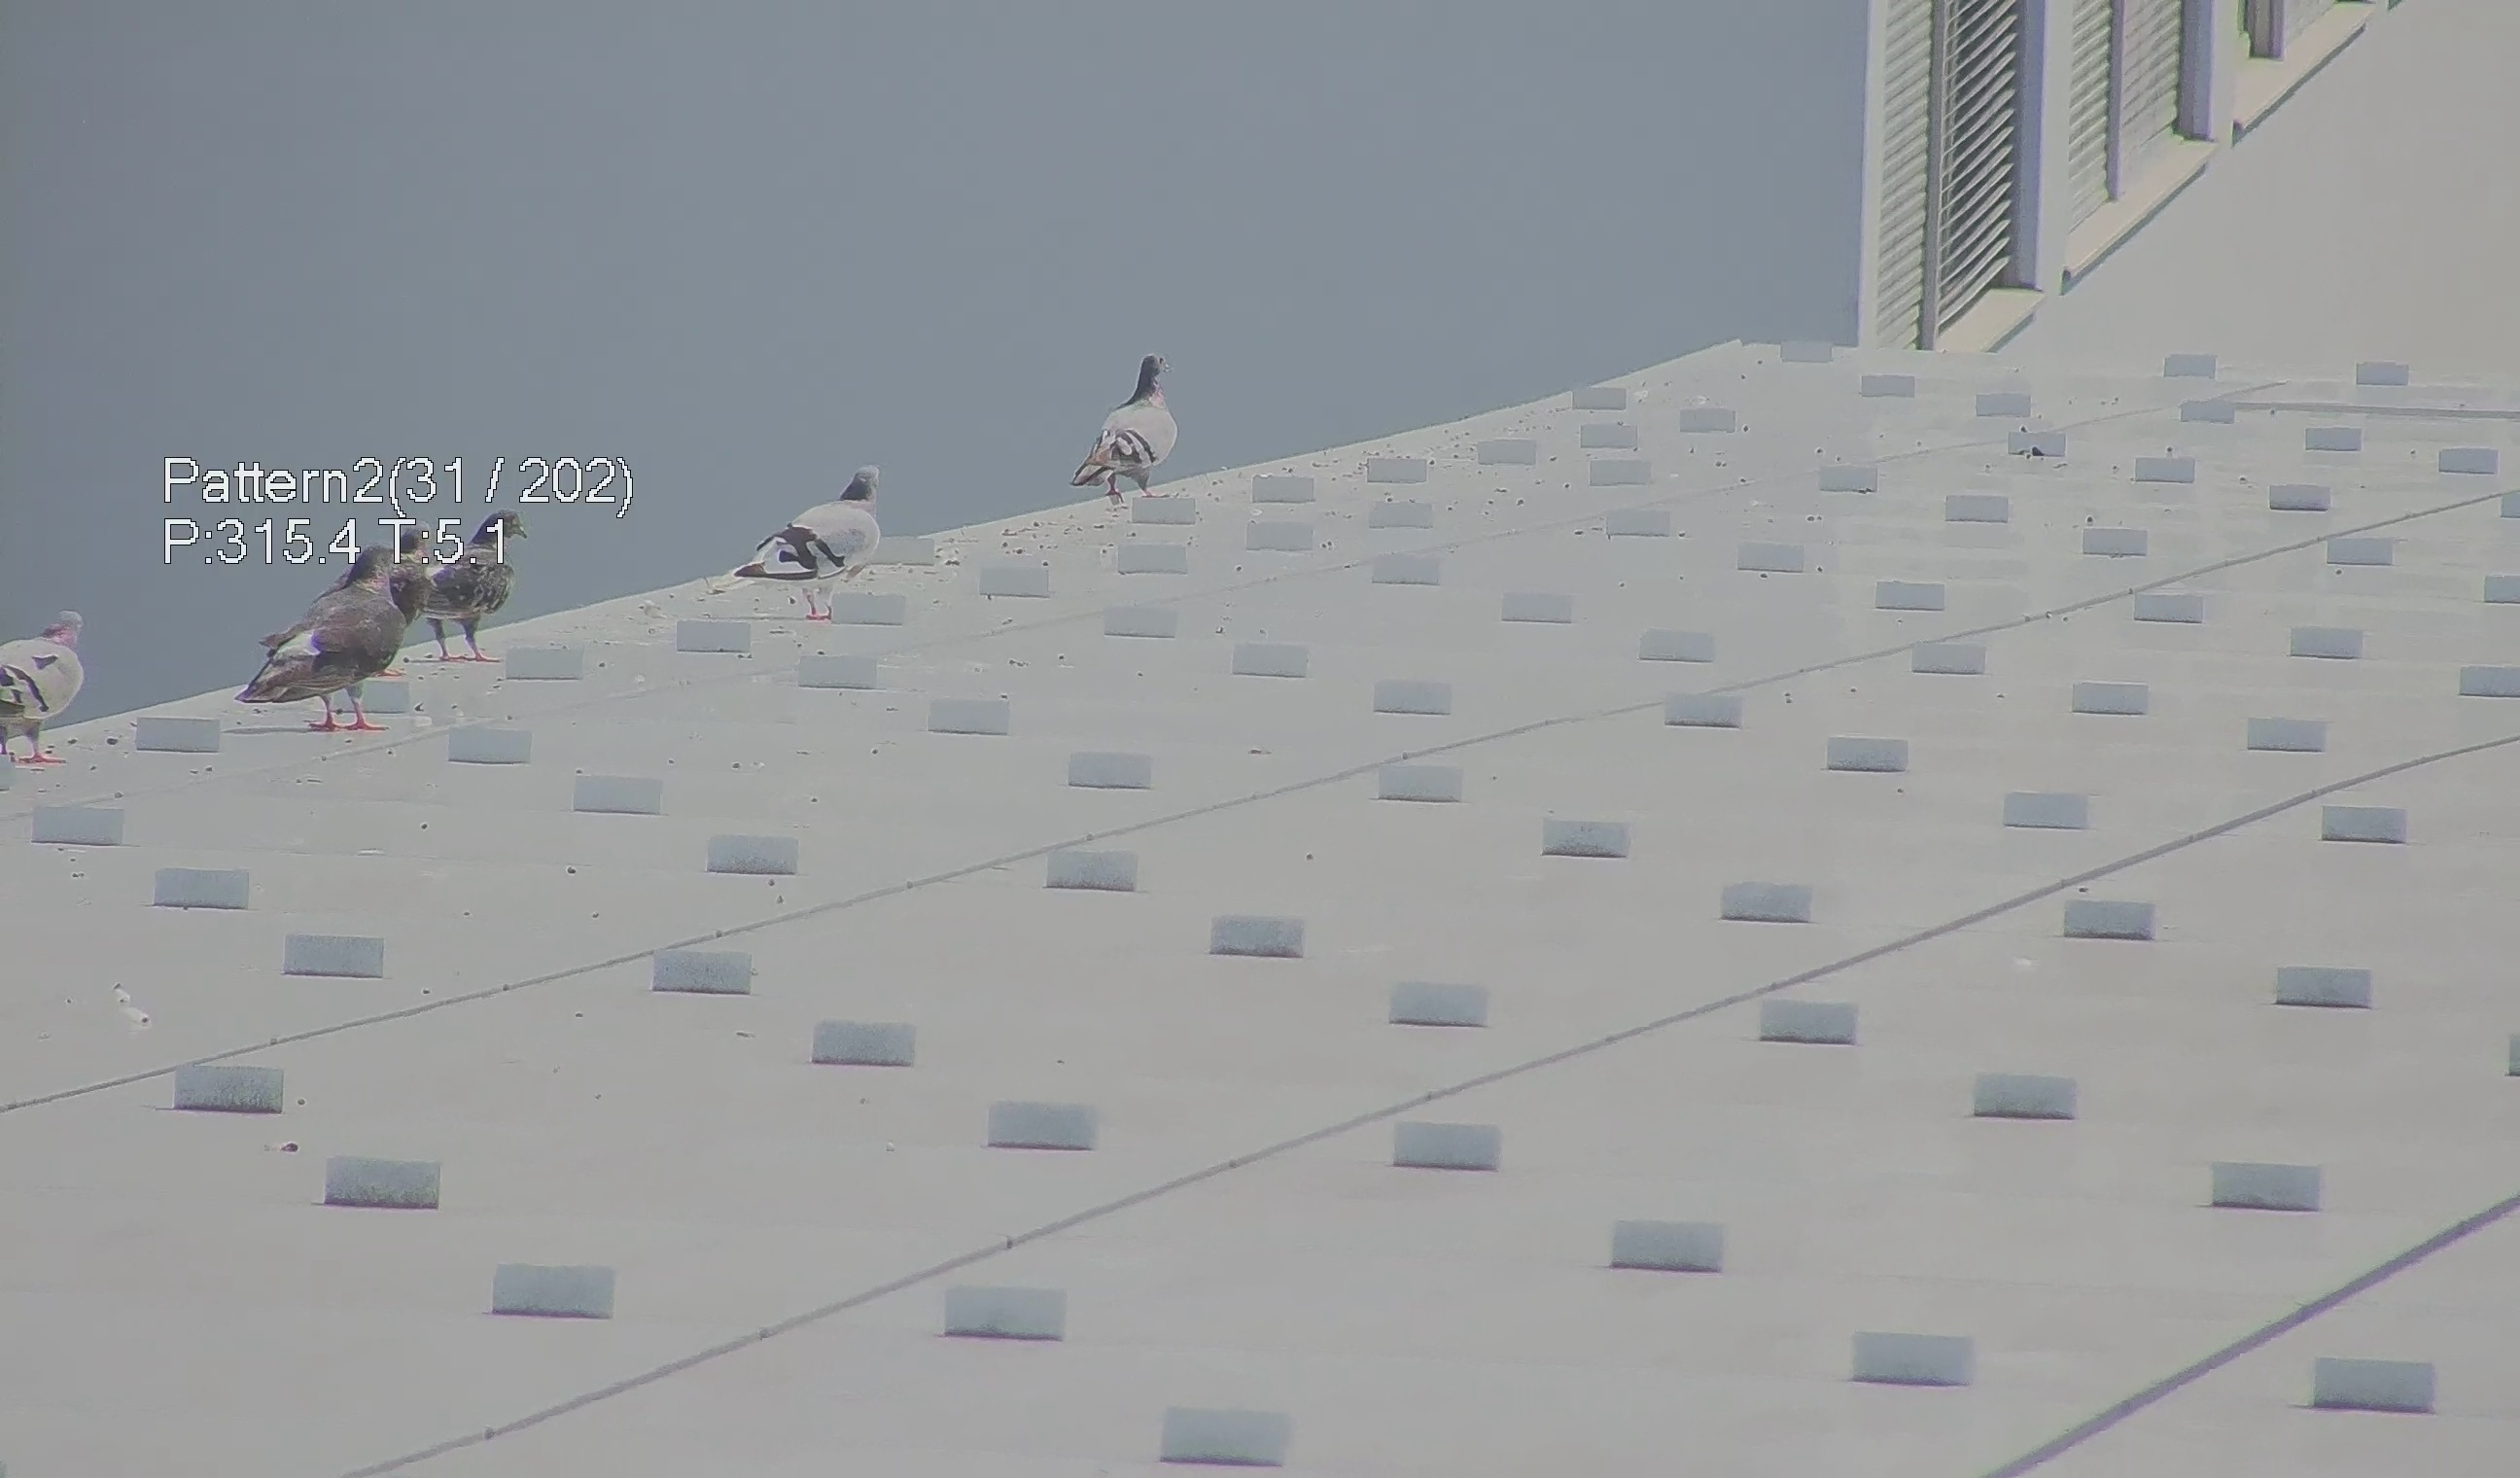Pigeon: (236, 535, 431, 734), (375, 501, 522, 665), (735, 459, 892, 604), (1059, 338, 1182, 505), (2, 598, 102, 771)
